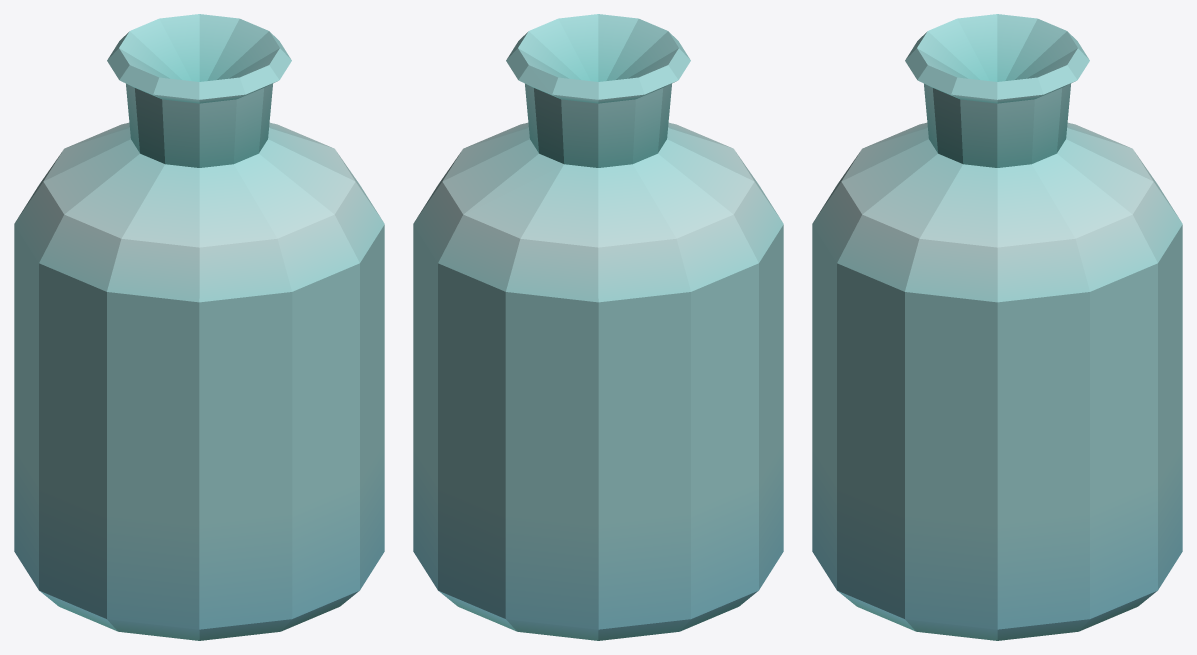
The model's file is exbottle.dae.
3 views of the same model, side by side, from view 1: azimuth 30°, elevation 25°; view 2: azimuth 150°, elevation 25°; view 3: azimuth 270°, elevation 25° (orthographic).
Visible parts, largest first — view 1: m0; view 2: m0; view 3: m0.
Part boxes in pixels (box(x1,y1,x2,y2)): m0: box(14, 14, 384, 640); m0: box(413, 14, 783, 640); m0: box(812, 14, 1182, 640).
Size of the model in its own units: 42.8 by 66.8 by 42.8.
